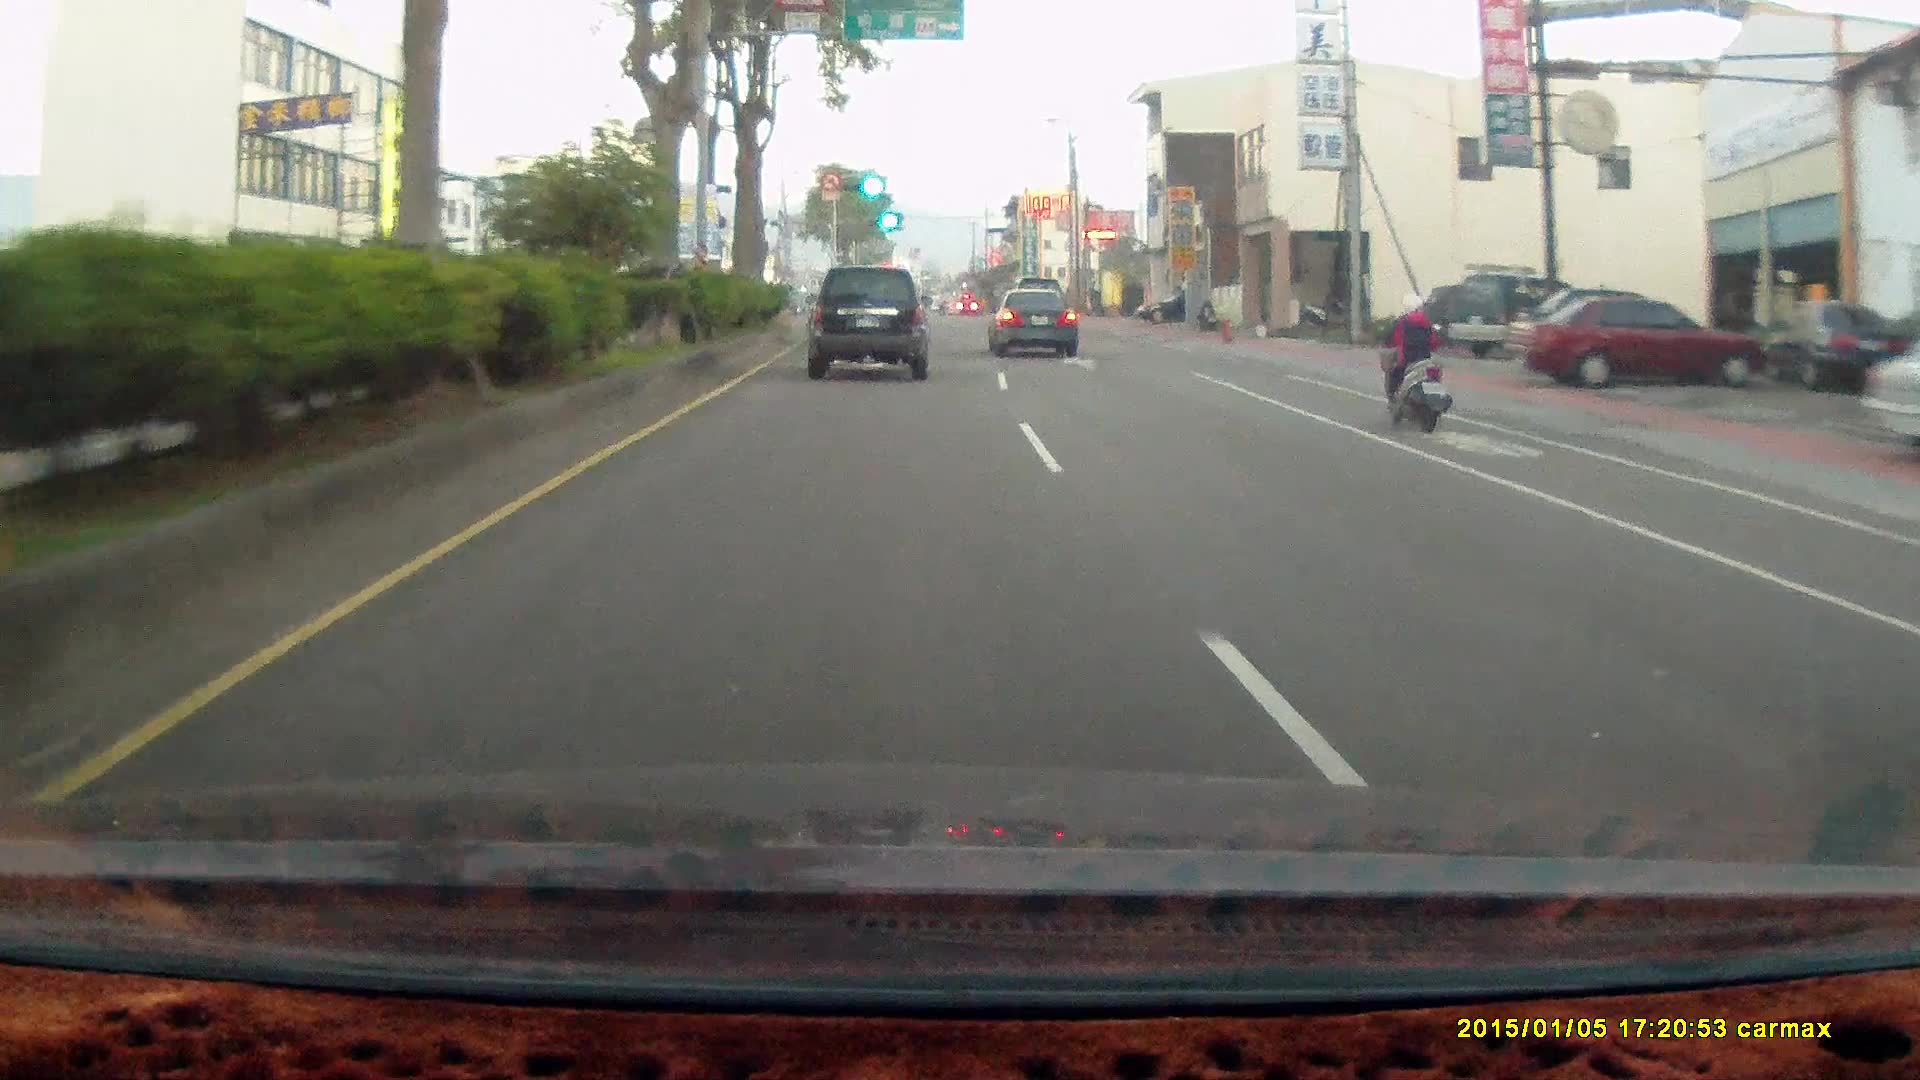rider: (1364, 281, 1466, 445), (1375, 290, 1450, 431)
vehicle: (1505, 295, 1766, 388), (1518, 297, 1748, 397), (809, 271, 933, 384), (808, 265, 931, 378), (1751, 301, 1906, 389), (1447, 273, 1595, 360), (1448, 273, 1587, 363), (1857, 311, 1920, 459), (987, 288, 1080, 358), (986, 287, 1078, 358), (1134, 289, 1215, 323)
